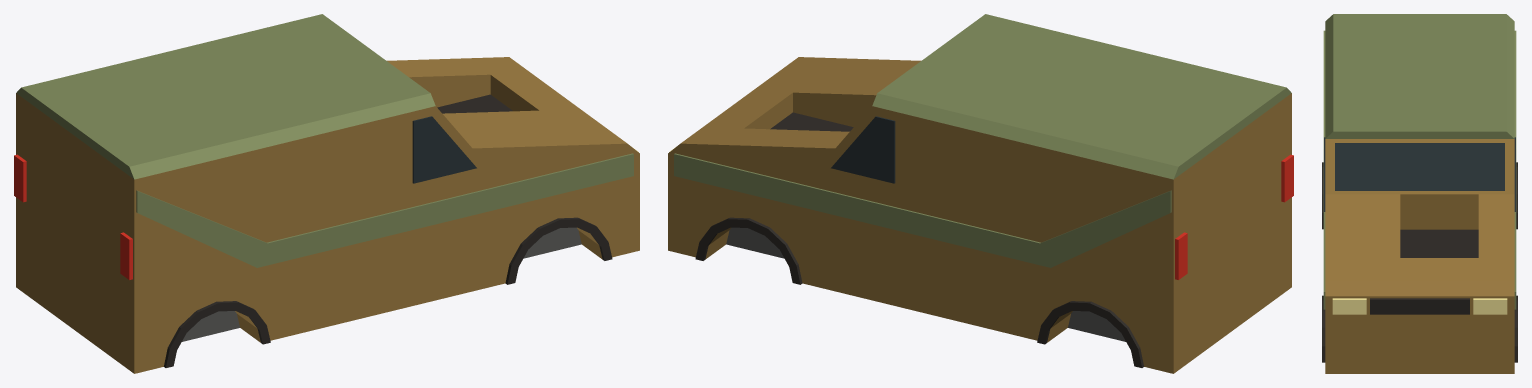
File: base_van.glb
3 renders of one model, left to right at view 1: azimuth 30°, elevation 25°; view 2: azimuth 150°, elevation 25°; view 3: azimuth 270°, elevation 25°, orthographic. The views are drawn at different scales.
Parts seen in each view (by area): view 1: base_van; view 2: base_van; view 3: base_van.
Boxes of the visible parts, left/top/right/bottom form: base_van: left=14, top=14, right=639, bottom=373; base_van: left=668, top=14, right=1293, bottom=373; base_van: left=1322, top=14, right=1517, bottom=373.
Size of the model in its own units: 5.85 by 2.22 by 2.42.
